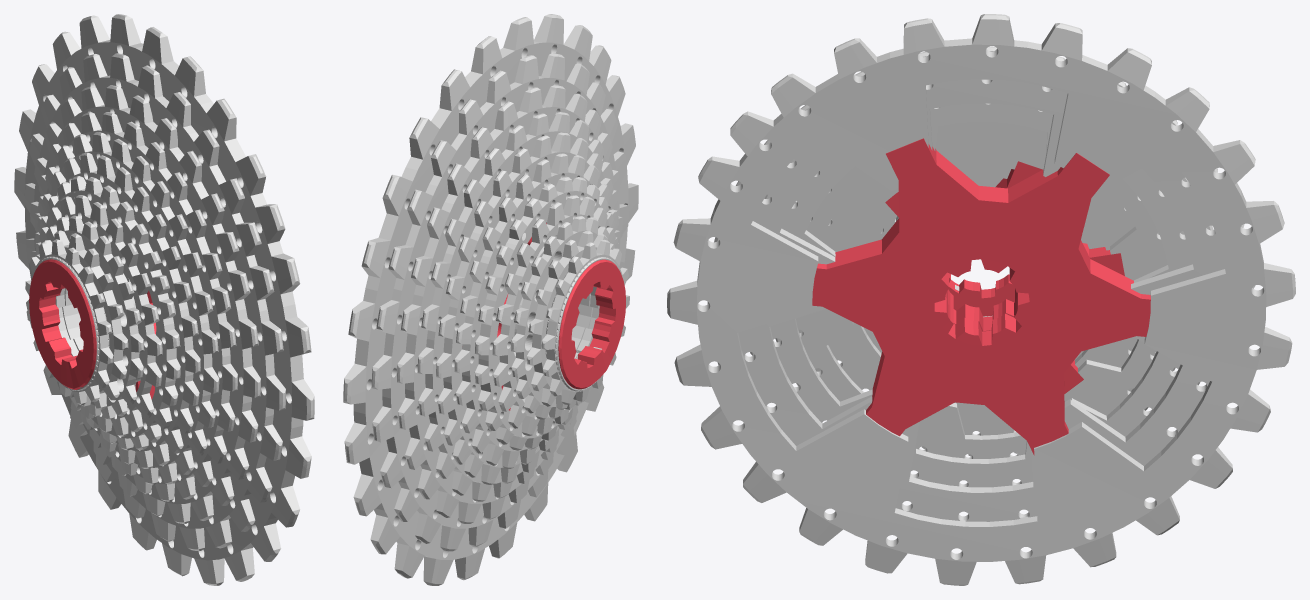
The model's file is SRAM_XG-1150.glb.
The picture shows the model from 3 angles, left to right: view 1: azimuth 30°, elevation 25°; view 2: azimuth 150°, elevation 25°; view 3: azimuth 270°, elevation 25°; orthographic projection. The views are drawn at different scales.
Visible parts, largest first — view 1: Cassette11, Cassette10, Cassette9, Cassette8, Cassette7, Cassette6, Cassette5, Cassette4, Cassette, Cassette3, Cassette1, Cassette2; view 2: Cassette11, Cassette10, Cassette9, Cassette8, Cassette7, Cassette6, Cassette5, Cassette4, Cassette, Cassette3, Cassette1, Cassette2; view 3: Cassette11, Circle, Cassette10, Cassette8, Cassette9, Cassette7, centerstar1, Cassette6, Cassette.
Boxes of the visible parts, box(x1,y1,x2,y2) form: Cassette11: box(14, 14, 314, 585); Cassette10: box(24, 53, 285, 551); Cassette9: box(30, 85, 260, 523); Cassette8: box(35, 112, 237, 501); Cassette7: box(35, 132, 219, 484); Cassette6: box(35, 152, 200, 468); Cassette5: box(36, 176, 180, 450); Cassette4: box(36, 195, 162, 436); Cassette: box(29, 256, 109, 390); Cassette3: box(46, 215, 144, 420); Cassette1: box(25, 239, 113, 404); Cassette2: box(44, 230, 128, 409); Cassette11: box(343, 14, 638, 585); Cassette10: box(371, 53, 628, 551); Cassette9: box(397, 85, 622, 523); Cassette8: box(417, 112, 620, 501); Cassette7: box(436, 132, 619, 484); Cassette6: box(454, 153, 619, 468); Cassette5: box(474, 176, 618, 450); Cassette4: box(492, 195, 615, 435); Cassette: box(545, 257, 625, 391); Cassette3: box(511, 216, 614, 419); Cassette1: box(541, 239, 629, 404); Cassette2: box(527, 230, 612, 409); Cassette11: box(667, 14, 1295, 585); Circle: box(812, 138, 1150, 455); Cassette10: box(707, 46, 1255, 521); Cassette8: box(775, 121, 1184, 458); Cassette9: box(750, 103, 1213, 487); Cassette7: box(798, 135, 1159, 456); centerstar1: box(885, 161, 1124, 393); Cassette6: box(858, 165, 1132, 360); Cassette: box(948, 273, 1014, 316).
Bounding box in the file's own units: 1.34 × 6.15 × 6.16.
